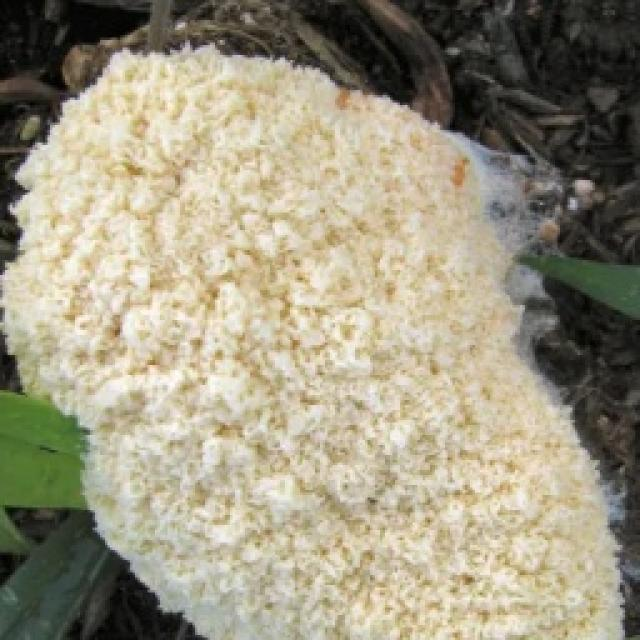Dog_vomit_slime_mold: (0, 34, 640, 636)
